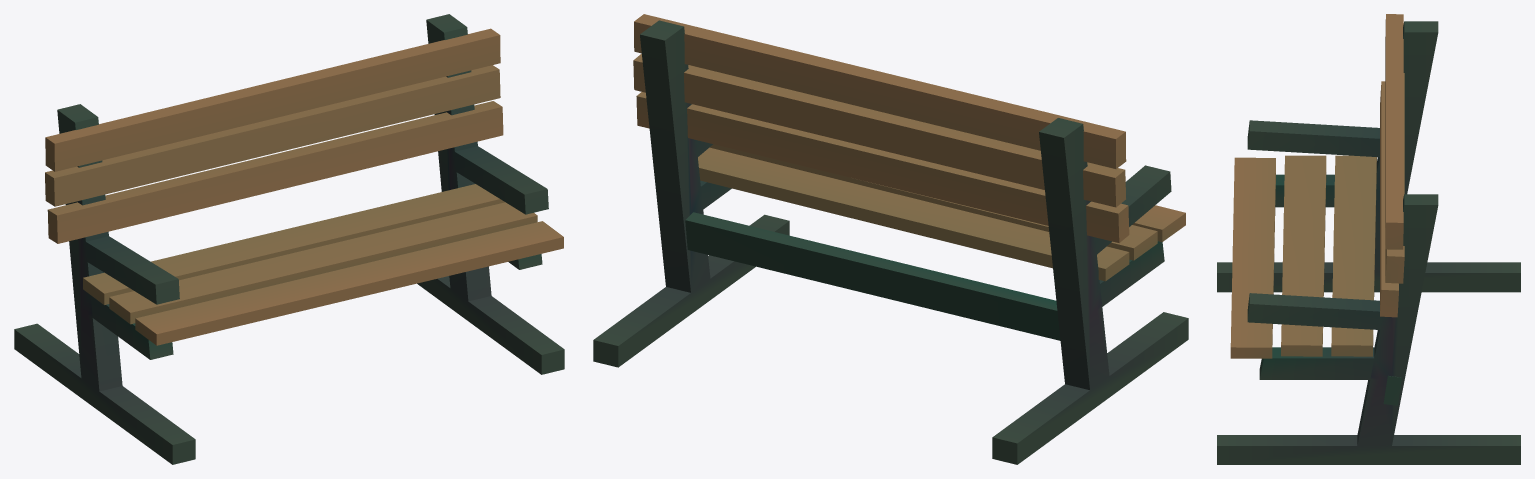
The picture shows the model from 3 angles, left to right: view 1: azimuth 30°, elevation 25°; view 2: azimuth 150°, elevation 25°; view 3: azimuth 270°, elevation 25°; orthographic projection. The views are drawn at different scales.
Parts seen in each view (by area): view 1: top_back_board, bottom_back_board, foot.001, middle_back_board, front_board, foot, middle_board, rear_board; view 2: foot.001, foot, top_back_board, middle_back_board, stretcher, bottom_back_board, rear_board, middle_board, front_board; view 3: foot, foot.001, front_board, middle_board, rear_board, top_back_board, bottom_back_board, middle_back_board, stretcher.
Part boxes in pixels (x1,y1,x2,y2): top_back_board: (45, 28, 500, 171); bottom_back_board: (47, 101, 503, 243); foot.001: (14, 104, 195, 464); middle_back_board: (45, 65, 500, 206); front_board: (135, 221, 563, 345); foot: (417, 14, 564, 374); middle_board: (109, 202, 537, 324); rear_board: (83, 184, 504, 304); foot.001: (992, 118, 1188, 464); foot: (593, 20, 789, 367); top_back_board: (634, 14, 1126, 168); middle_back_board: (633, 54, 1125, 207); stretcher: (685, 212, 1060, 340); bottom_back_board: (636, 92, 1129, 242); rear_board: (698, 147, 1129, 281); middle_board: (709, 144, 1157, 260); front_board: (1132, 205, 1185, 241); foot: (1217, 194, 1520, 464); foot.001: (1217, 21, 1520, 292); front_board: (1230, 157, 1275, 358); middle_board: (1281, 155, 1326, 356); rear_board: (1331, 155, 1376, 356); top_back_board: (1385, 14, 1403, 249); bottom_back_board: (1380, 81, 1398, 317); middle_back_board: (1385, 73, 1404, 283); stretcher: (1383, 376, 1401, 405).
Size of the model in its own units: 1.5 by 0.8713 by 0.9231.
